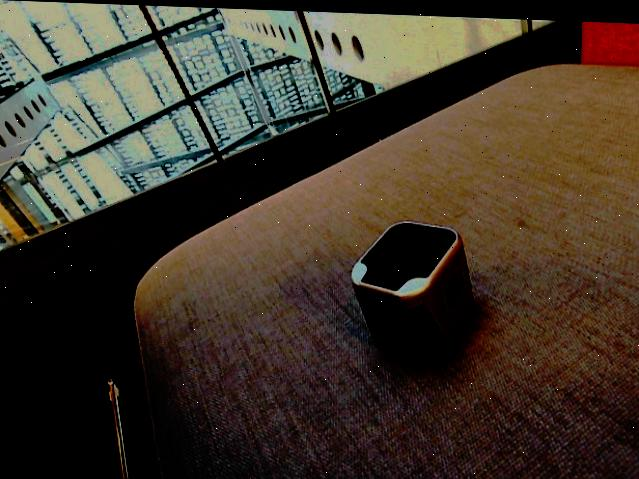adapter: (350, 215, 474, 361)
